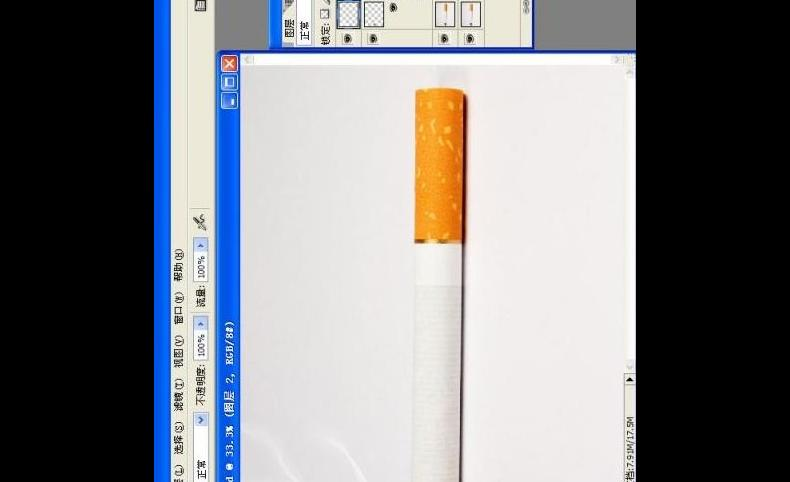Cigarette: (404, 84, 469, 482)
